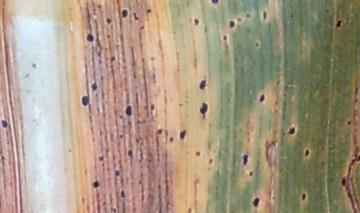tarspot: (199, 100, 208, 115), (80, 95, 90, 107), (198, 78, 207, 90), (86, 32, 95, 43), (252, 196, 260, 208), (120, 8, 129, 18), (336, 17, 343, 29), (287, 126, 295, 136), (131, 11, 139, 21), (126, 104, 132, 117), (227, 20, 235, 29), (242, 154, 248, 165), (1, 120, 9, 128), (194, 150, 202, 158), (180, 130, 187, 139), (258, 94, 265, 103), (300, 192, 307, 201), (92, 181, 100, 188), (193, 18, 200, 26), (167, 135, 174, 143), (120, 189, 126, 198), (207, 156, 213, 165), (340, 177, 346, 186), (304, 149, 310, 158), (114, 170, 121, 177), (97, 154, 104, 161), (253, 41, 260, 48), (105, 17, 112, 24), (109, 56, 116, 63), (91, 82, 97, 90), (126, 150, 134, 156), (247, 169, 253, 177), (245, 11, 251, 19), (346, 119, 352, 127), (262, 10, 267, 19), (236, 16, 243, 22), (146, 7, 152, 14), (157, 128, 163, 135), (96, 3, 102, 10), (210, 1, 220, 5), (150, 103, 155, 111), (222, 34, 227, 41), (119, 133, 124, 140), (187, 207, 192, 213), (112, 207, 116, 213), (1, 156, 5, 161)
